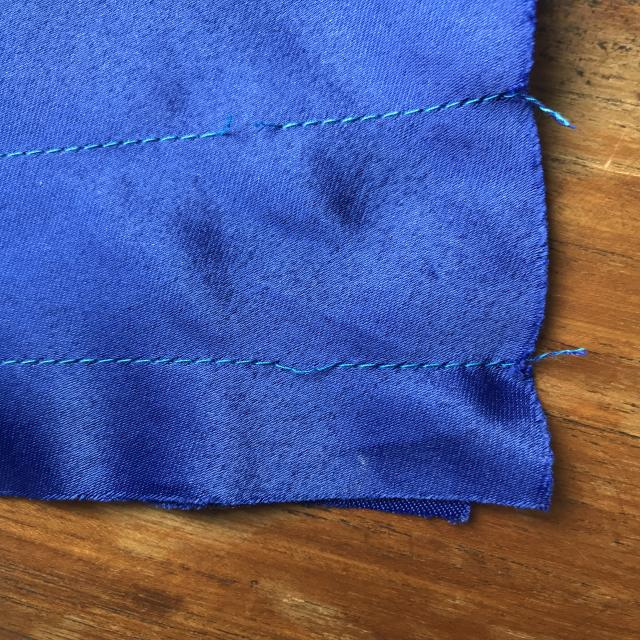broken: (174, 104, 304, 149)
good: (83, 344, 188, 385)
skip: (256, 337, 351, 407)
